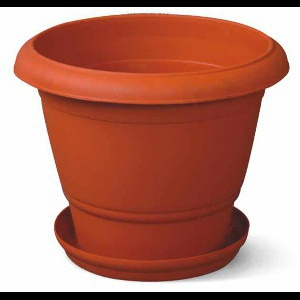flowerpot: (13, 13, 290, 280)
